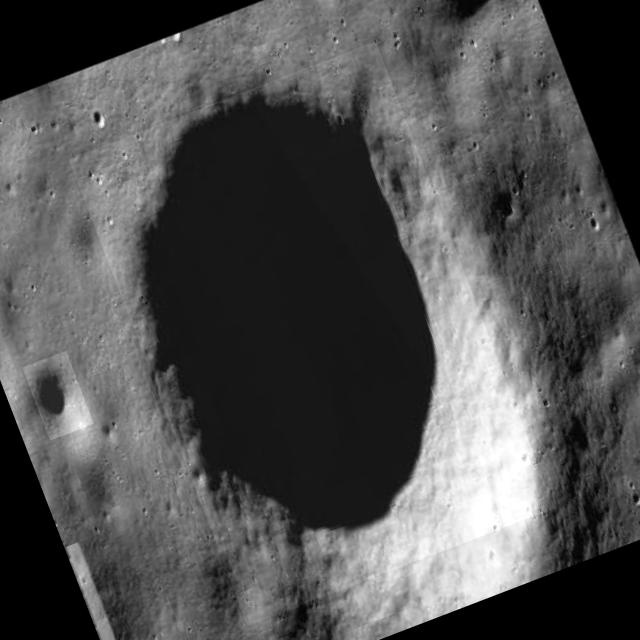crater: (69, 41, 555, 626), (22, 352, 94, 441)
